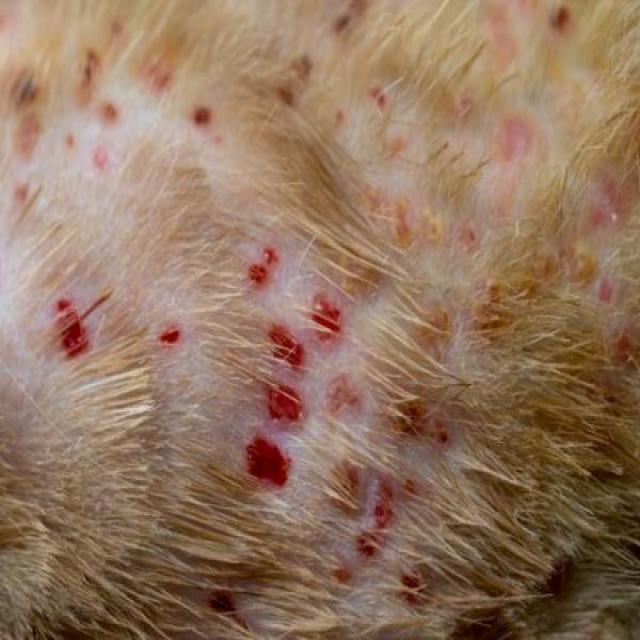di ung bo chet: (0, 0, 625, 602)
